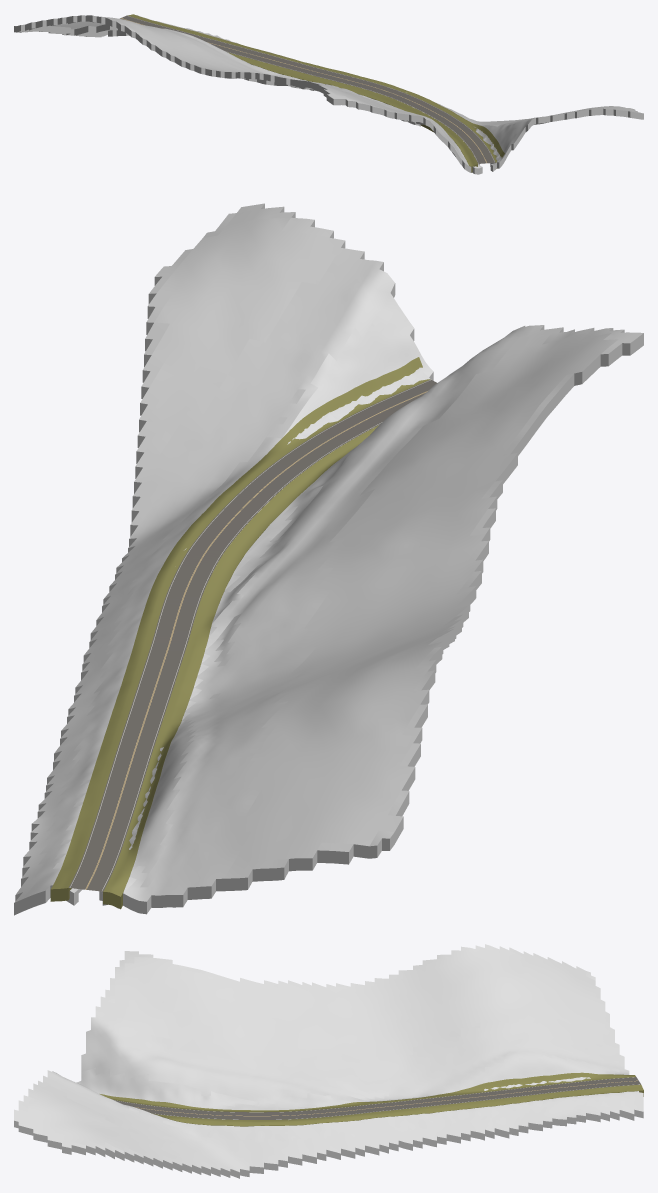
The model's file is conz_30.glb.
The picture shows the model from 3 angles, top to bottom: view 1: azimuth 30°, elevation 25°; view 2: azimuth 150°, elevation 25°; view 3: azimuth 270°, elevation 25°; orthographic projection. The views are drawn at different scales.
Visible parts, largest first — view 1: terrain30, road30, verge30R, verge30L, paint_yellow30, paint_white30; view 2: terrain30, road30, verge30L, verge30R, paint_white30, paint_yellow30; view 3: terrain30, road30, verge30L, verge30R, paint_yellow30, paint_white30.
Boxes of the visible parts, left/top/right/bottom form: terrain30: left=14, top=15, right=643, bottom=174; road30: left=120, top=15, right=495, bottom=163; verge30R: left=228, top=52, right=477, bottom=172; verge30L: left=128, top=14, right=504, bottom=168; paint_yellow30: left=121, top=18, right=486, bottom=162; paint_white30: left=127, top=15, right=494, bottom=163; terrain30: left=14, top=203, right=643, bottom=915; road30: left=68, top=379, right=436, bottom=891; verge30L: left=50, top=357, right=430, bottom=901; verge30R: left=103, top=425, right=378, bottom=909; paint_white30: left=69, top=379, right=431, bottom=890; paint_yellow30: left=85, top=391, right=427, bottom=889; terrain30: left=14, top=944, right=643, bottom=1178; road30: left=114, top=1077, right=640, bottom=1119; verge30L: left=151, top=1084, right=643, bottom=1126; verge30R: left=100, top=1072, right=635, bottom=1112; paint_yellow30: left=136, top=1080, right=637, bottom=1116; paint_white30: left=115, top=1077, right=639, bottom=1119.
Bounding box in the file's own units: 184 × 61.17 × 262.
